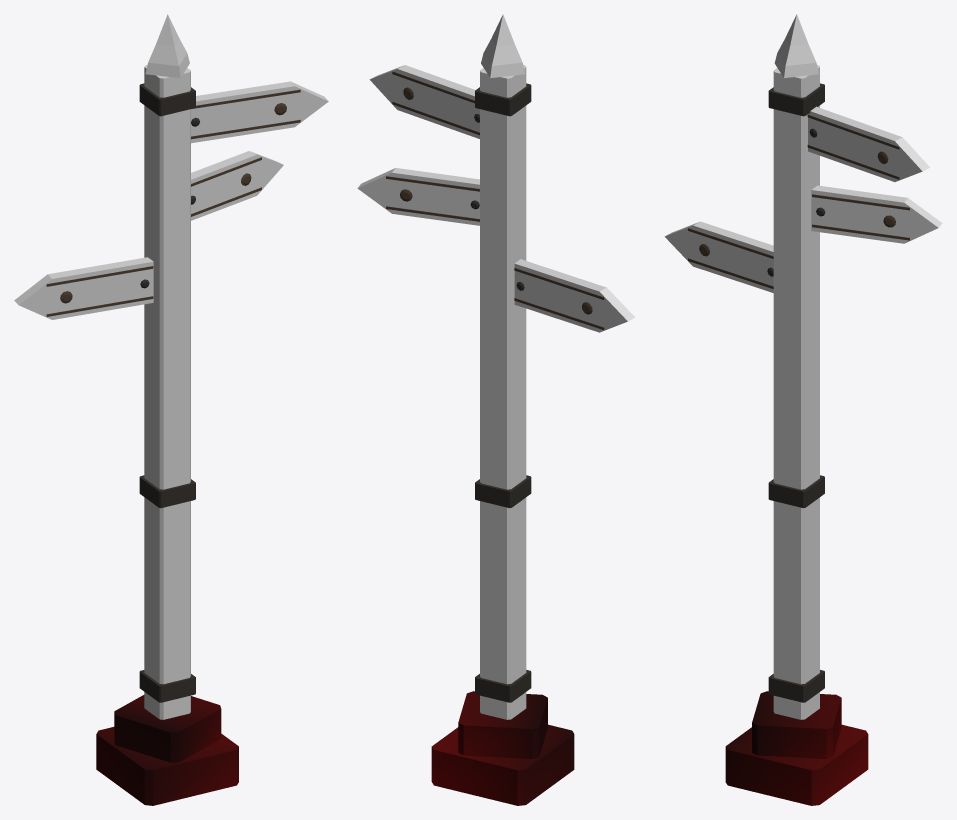
File: SilverbrookPropSignpost.fbx
The picture shows the model from 3 angles, left to right: view 1: azimuth 30°, elevation 25°; view 2: azimuth 150°, elevation 25°; view 3: azimuth 330°, elevation 25°; orthographic projection.
Visible parts, largest first — view 1: SM_SBPropSignpost_Timber, SM_SBPropSignpost_Stone, SM_SBPropSignpost_Details; view 2: SM_SBPropSignpost_Timber, SM_SBPropSignpost_Stone, SM_SBPropSignpost_Details; view 3: SM_SBPropSignpost_Timber, SM_SBPropSignpost_Stone, SM_SBPropSignpost_Details.
Boxes of the visible parts, x1,y1,x2,y2 form: SM_SBPropSignpost_Timber: (14, 14, 328, 719); SM_SBPropSignpost_Stone: (96, 695, 238, 805); SM_SBPropSignpost_Details: (46, 83, 300, 702); SM_SBPropSignpost_Timber: (357, 14, 634, 719); SM_SBPropSignpost_Stone: (431, 691, 574, 805); SM_SBPropSignpost_Details: (386, 71, 604, 702); SM_SBPropSignpost_Timber: (664, 14, 942, 719); SM_SBPropSignpost_Stone: (725, 691, 868, 805); SM_SBPropSignpost_Details: (688, 83, 909, 702).
Size of the model in its own units: 109 by 278 by 36.
